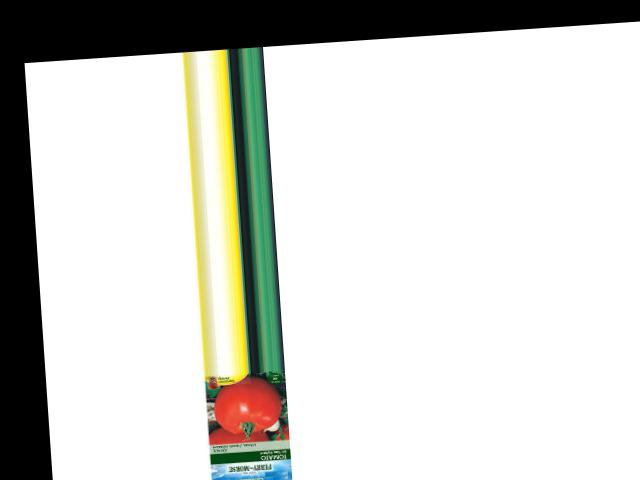tomato: (212, 374, 282, 434)
